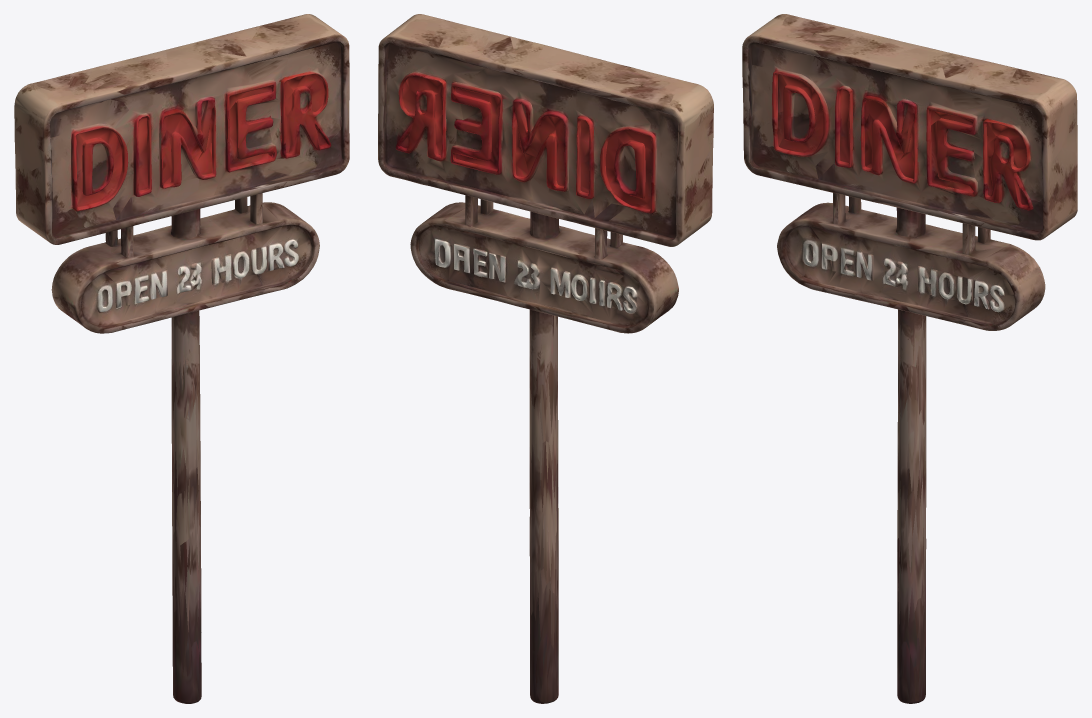
File: sign_diner_c_idle.glb
3 renders of one model, left to right at view 1: azimuth 30°, elevation 25°; view 2: azimuth 150°, elevation 25°; view 3: azimuth 330°, elevation 25°, orthographic.
Parts seen in each view (by area): view 1: tripo_node_cac3d934-7fbf-4936-8c49-4ebd6f4e6553; view 2: tripo_node_cac3d934-7fbf-4936-8c49-4ebd6f4e6553; view 3: tripo_node_cac3d934-7fbf-4936-8c49-4ebd6f4e6553.
Part boxes in pixels (x1,y1,x2,y2): tripo_node_cac3d934-7fbf-4936-8c49-4ebd6f4e6553: (14,14,349,703); tripo_node_cac3d934-7fbf-4936-8c49-4ebd6f4e6553: (378,14,713,703); tripo_node_cac3d934-7fbf-4936-8c49-4ebd6f4e6553: (742,14,1077,703).
Bounding box in the file's own units: 2.5 × 5 × 0.4376.
1 material, 1 textured.
